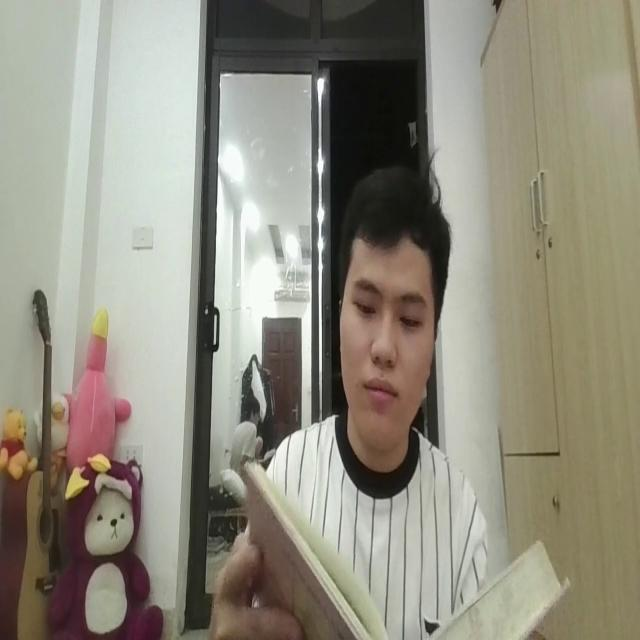book: (243, 449, 573, 640)
student: (222, 150, 485, 640)
